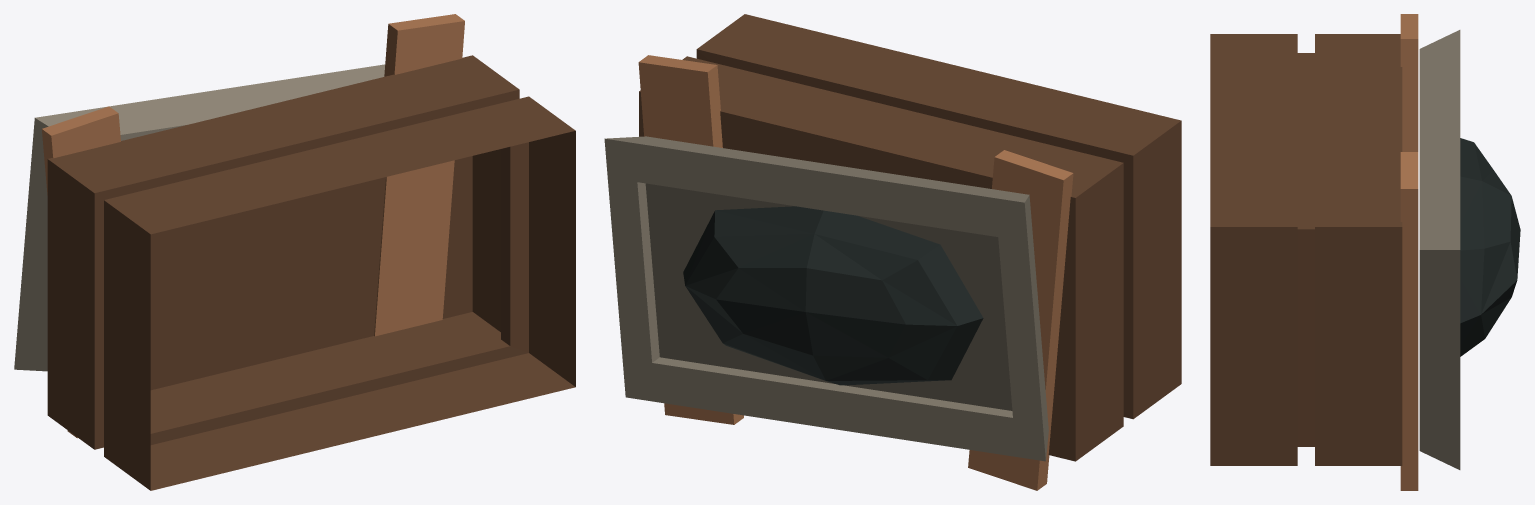
File: Crate 01.FBX
3 views of the same model, side by side, from view 1: azimuth 30°, elevation 25°; view 2: azimuth 150°, elevation 25°; view 3: azimuth 270°, elevation 25° (orthographic). The views are drawn at different scales.
Parts seen in each view (by area): view 1: Crate 01; view 2: Crate 01; view 3: Crate 01.
Boxes of the visible parts, box(x1,y1,x2,y2) form: Crate 01: box(14, 14, 575, 490); Crate 01: box(604, 14, 1181, 490); Crate 01: box(1210, 14, 1520, 490).
Bounding box in the file's own units: 115 × 76.98 × 87.61.
